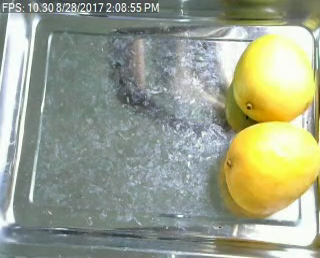Mango: (223, 121, 320, 216), (233, 34, 315, 121)
